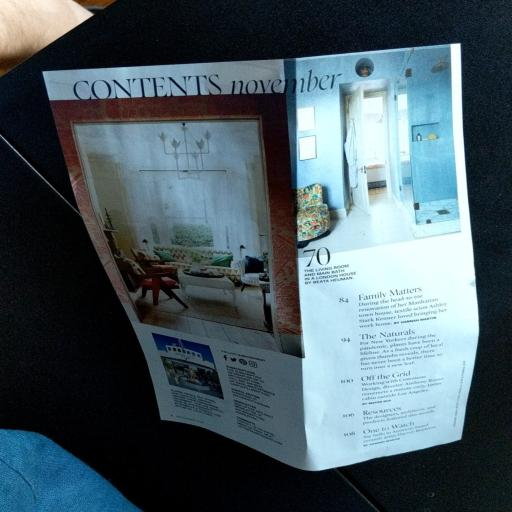paper: (24, 12, 512, 512)
